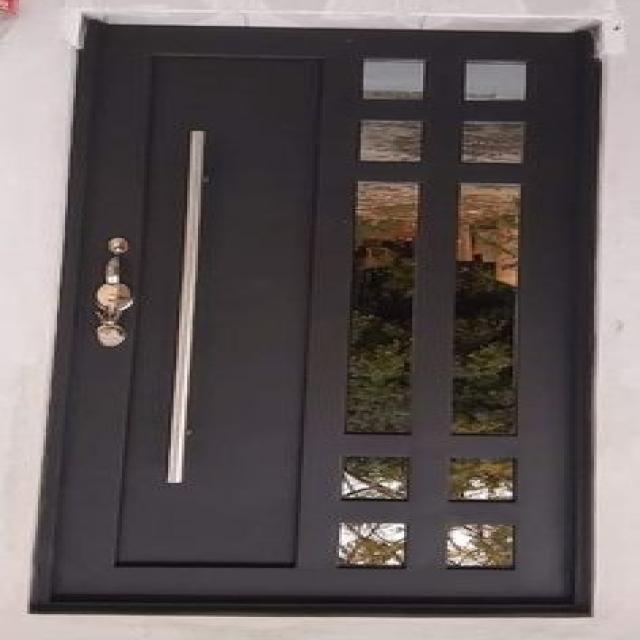door: (31, 22, 601, 616)
